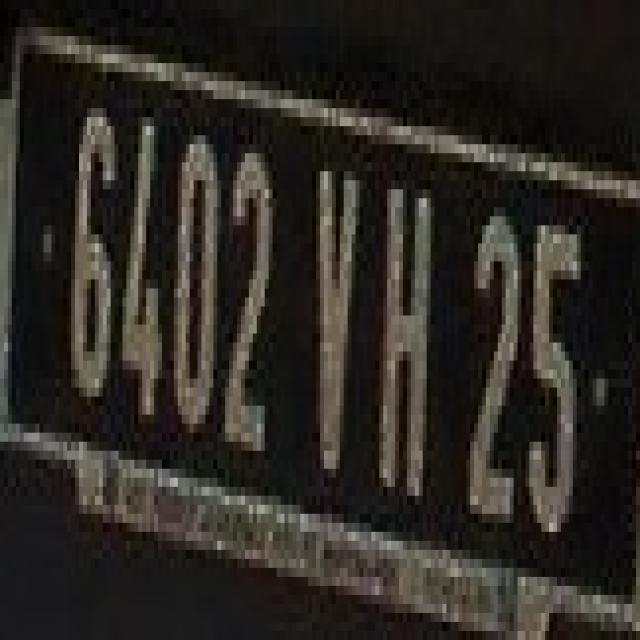Autre: (0, 40, 636, 616)
